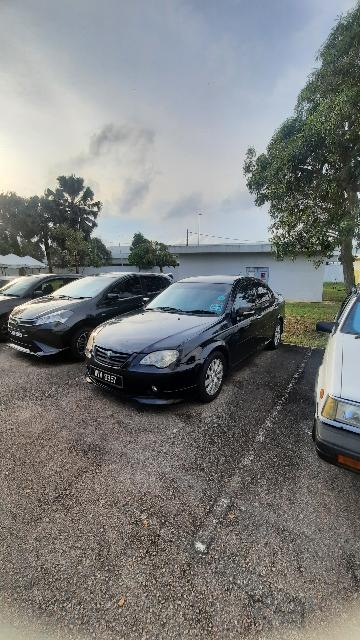License_Plate: (92, 366, 128, 390), (8, 330, 37, 344)
car: (84, 276, 288, 413), (6, 272, 178, 371), (311, 283, 360, 505)
